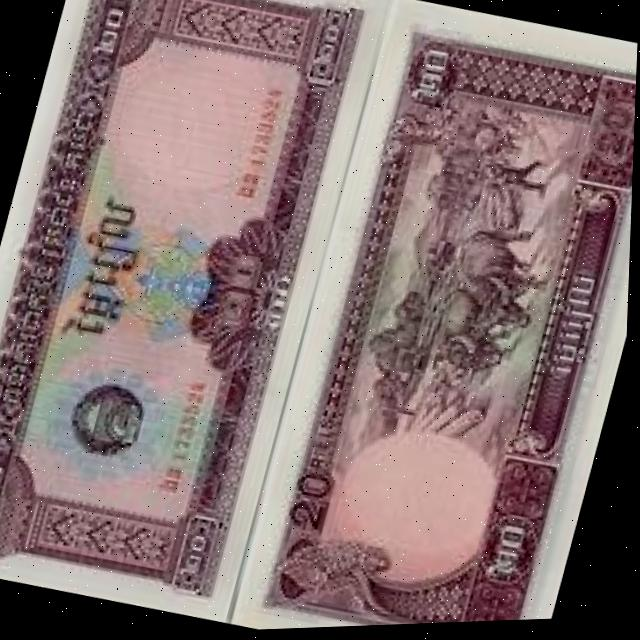banknote: (233, 0, 640, 633), (0, 0, 390, 631), (278, 456, 356, 540)
